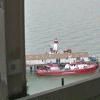Boat: (29, 48, 99, 77)
